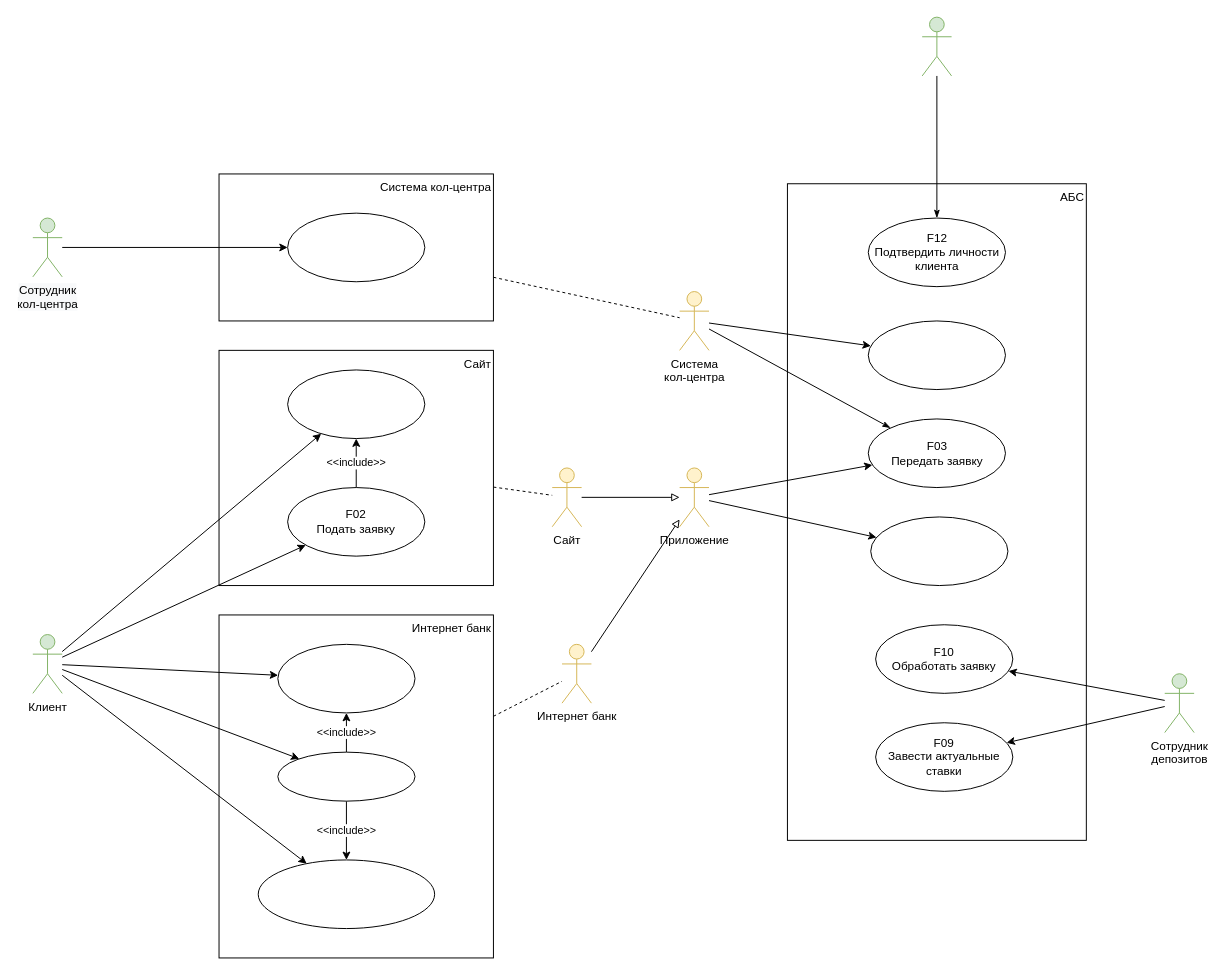
This 1224x975 diagram has some shape labels left out. Each missing label, with the centre of its shape:
"F01 Просмотреть доступные депозиты" goes at (356,404).
"F04 Подать заявку" goes at (346,776).
"F05 Подтвердить заявку" goes at (346,678).
"F06 Просмотреть доступные депозиты" goes at (346,894).
"F07 Изучить заявку" goes at (356,247).
"F08 Получить заявки" goes at (936,355).
"F11 Получить доступные депозиты" goes at (939,551).
"Сотрудник отделения" goes at (936,46).
